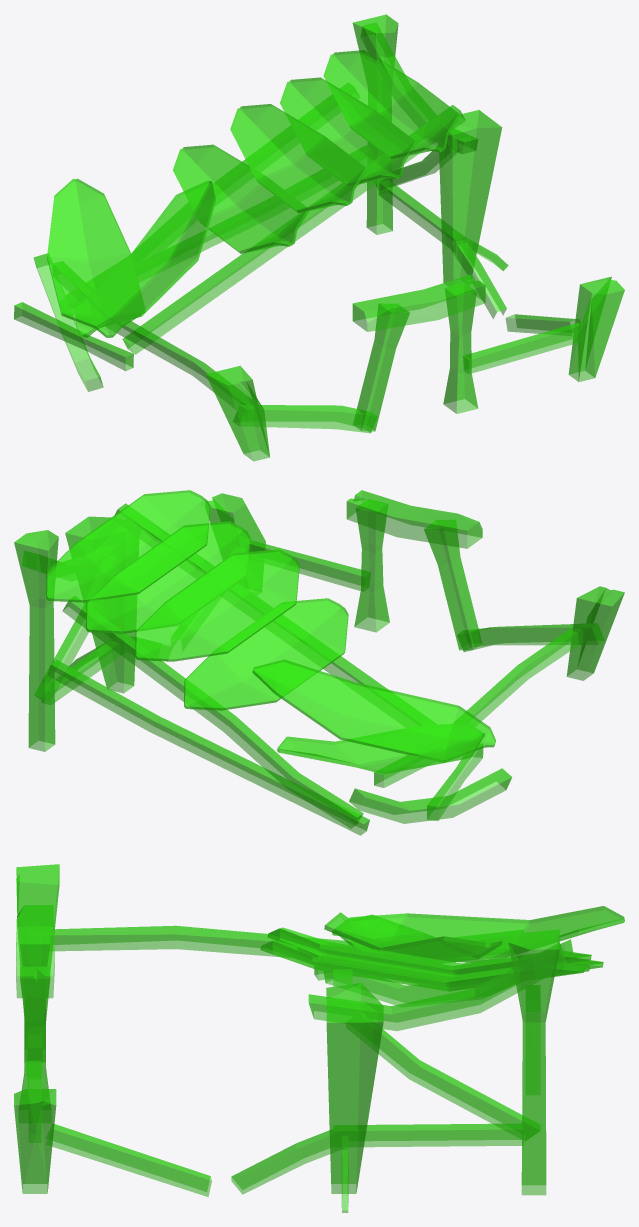
File: Wood_storage_possible_to_place.fbx
3 views of the same model, one above another, from view 1: azimuth 30°, elevation 25°; view 2: azimuth 150°, elevation 25°; view 3: azimuth 270°, elevation 25° (orthographic). The views are drawn at different scales.
Parts seen in each view (by area): view 1: Cube.016; view 2: Cube.016; view 3: Cube.016.
Boxes of the visible parts, x1=… form: Cube.016: x1=14, y1=14, x2=624, y2=461; Cube.016: x1=14, y1=490, x2=624, y2=835; Cube.016: x1=14, y1=864, x2=624, y2=1212.
Bounding box in the file's own units: 6 × 6 × 3.
